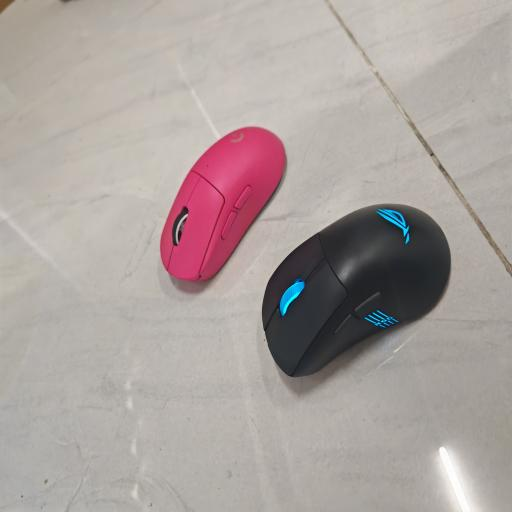mouse: (262, 204, 450, 376), (160, 127, 286, 281)
